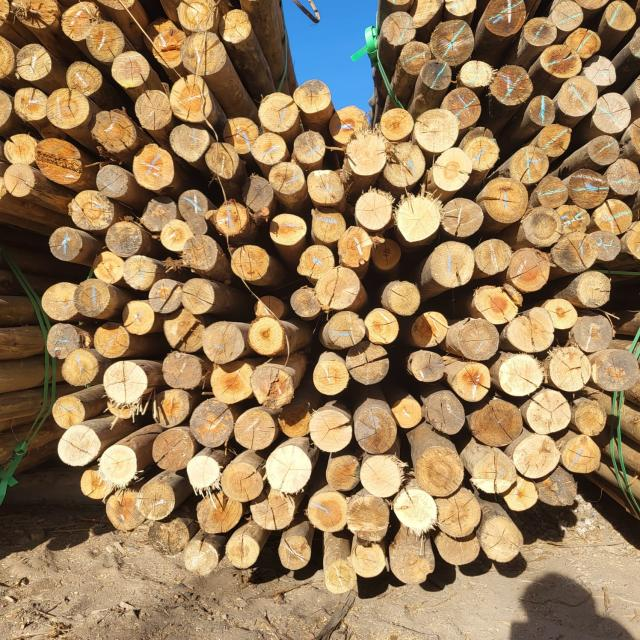package: (40, 85, 640, 590), (374, 0, 640, 241), (2, 0, 262, 213)
